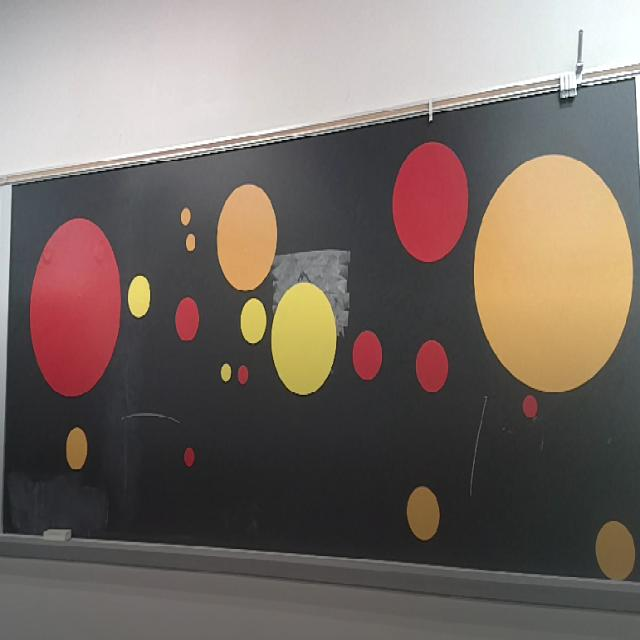Orange: (474, 155, 633, 393), (216, 185, 278, 292), (596, 521, 636, 580), (406, 486, 440, 540), (66, 426, 88, 470), (180, 208, 191, 225), (185, 234, 196, 251)
Red: (29, 216, 121, 400), (392, 140, 468, 262), (416, 340, 449, 395), (352, 330, 382, 380), (175, 297, 200, 341), (522, 394, 538, 418), (237, 366, 249, 384), (184, 448, 195, 466)
Yellow: (271, 282, 336, 394), (241, 297, 266, 344), (128, 274, 150, 318), (221, 363, 232, 381)
